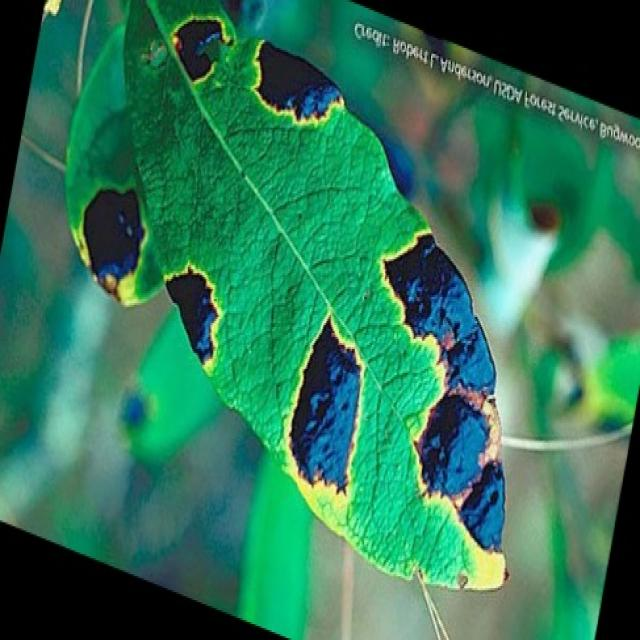Tar_Spot: (122, 31, 534, 606)
